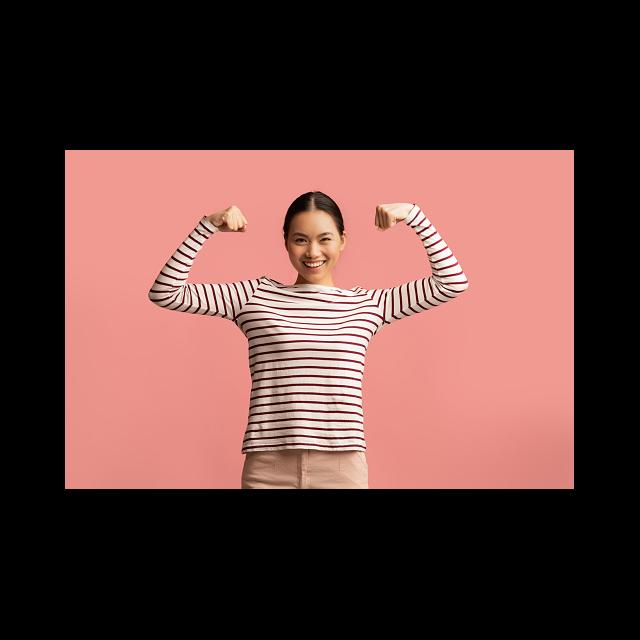female: (269, 192, 363, 291)
